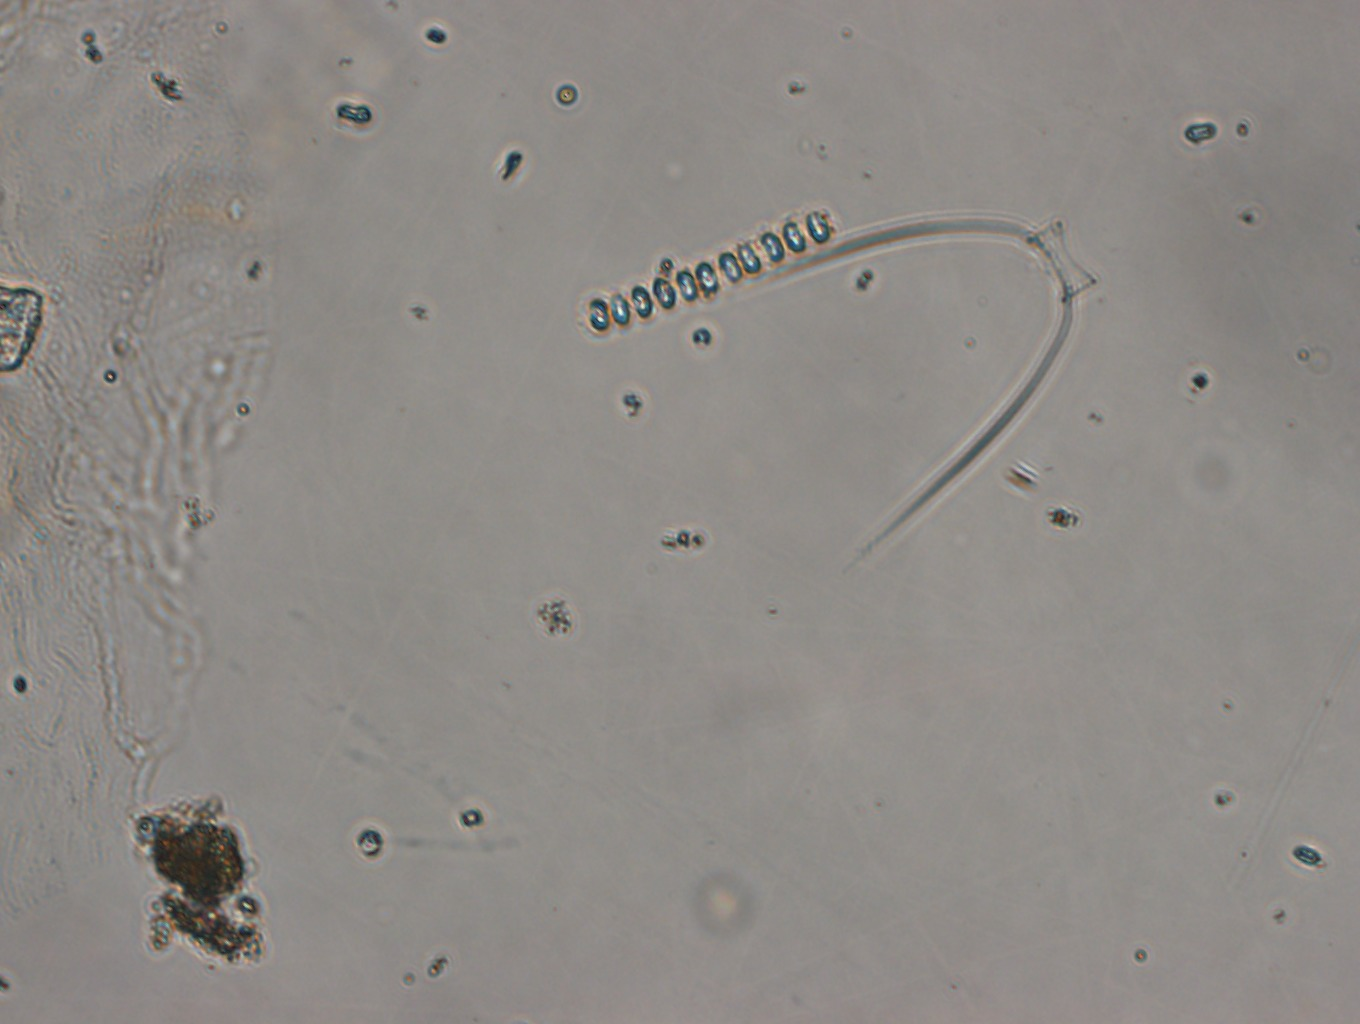chaetoceros: (683, 212, 1096, 556)
skeletonema: (582, 210, 846, 343)
